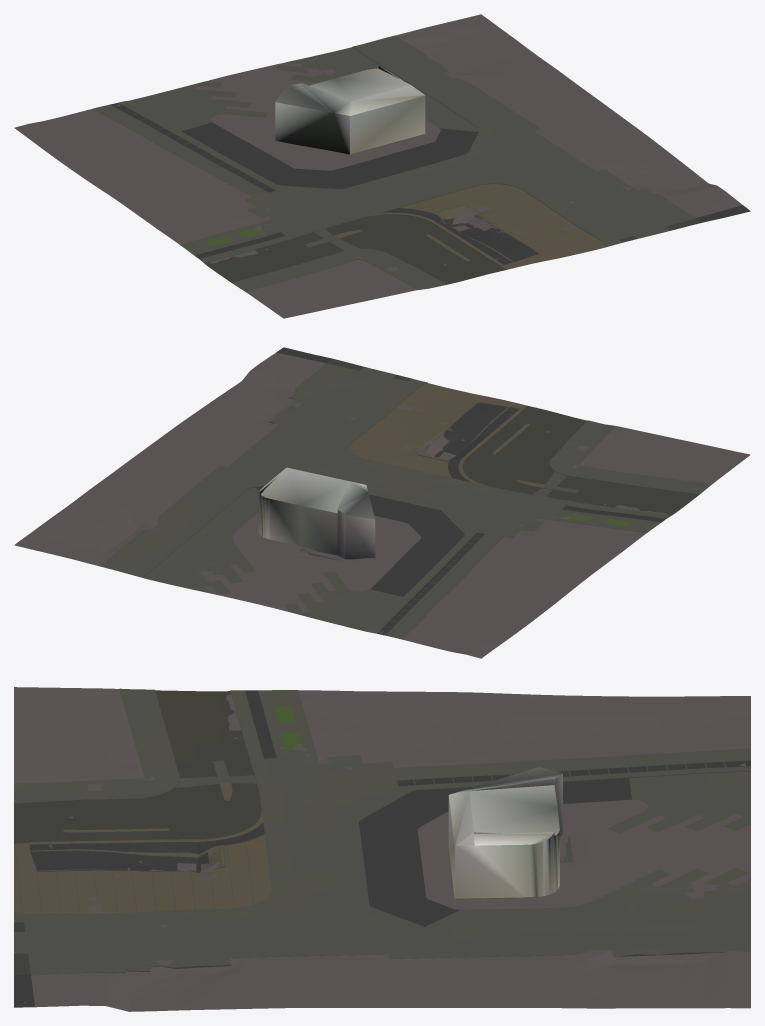
The picture shows the model from 3 angles, top to bottom: view 1: azimuth 30°, elevation 25°; view 2: azimuth 150°, elevation 25°; view 3: azimuth 270°, elevation 25°; orthographic projection. The views are drawn at different scales.
Visible parts, largest first — view 1: c_m06_m02; view 2: c_m06_m02; view 3: c_m06_m02.
Part boxes in pixels (x1,y1,x2,y2): c_m06_m02: [14, 14, 750, 318]; c_m06_m02: [14, 347, 750, 658]; c_m06_m02: [14, 687, 750, 1011].
Bounding box in the file's own units: 128 × 14.08 × 128.
